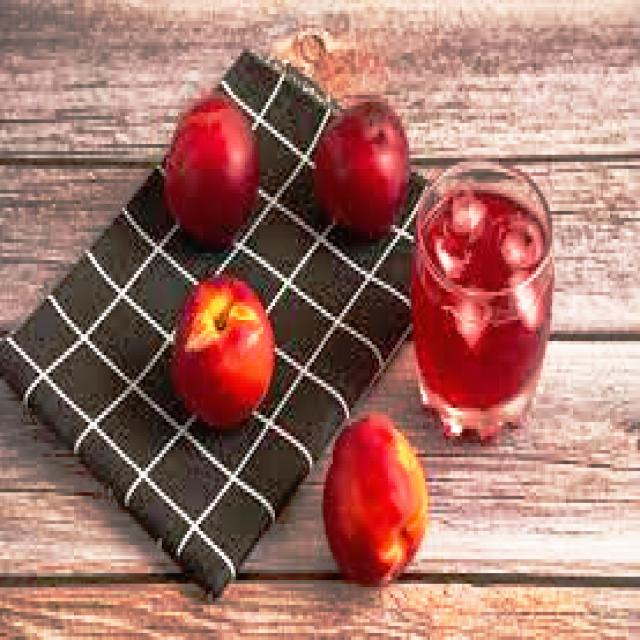drink: (409, 151, 559, 450)
